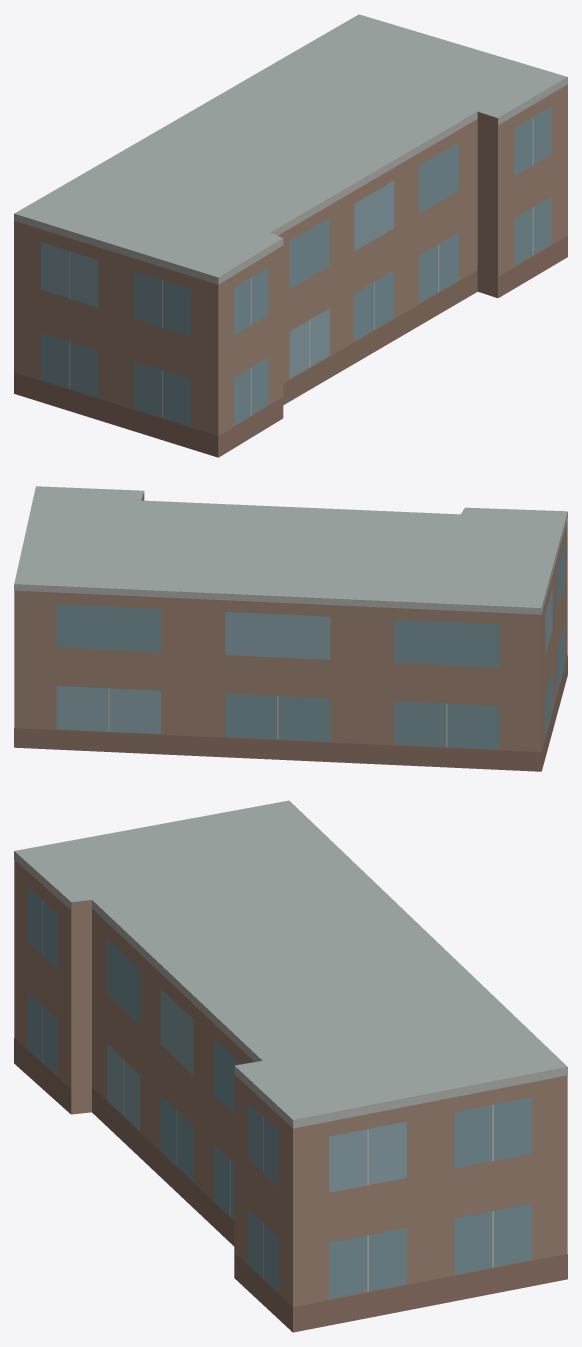
File: survey-upis-33033353.glb
The picture shows the model from 3 angles, top to bottom: view 1: azimuth 30°, elevation 25°; view 2: azimuth 150°, elevation 25°; view 3: azimuth 270°, elevation 25°; orthographic projection. The views are drawn at different scales.
Parts seen in each view (by area): view 1: survey-upis-33033353.tmp; view 2: survey-upis-33033353.tmp; view 3: survey-upis-33033353.tmp.
Part boxes in pixels (x1,y1,x2,y2): survey-upis-33033353.tmp: (14, 14, 567, 457); survey-upis-33033353.tmp: (14, 486, 567, 771); survey-upis-33033353.tmp: (14, 800, 567, 1332).
Size of the model in its own units: 19.7 by 6.1 by 14.42.
